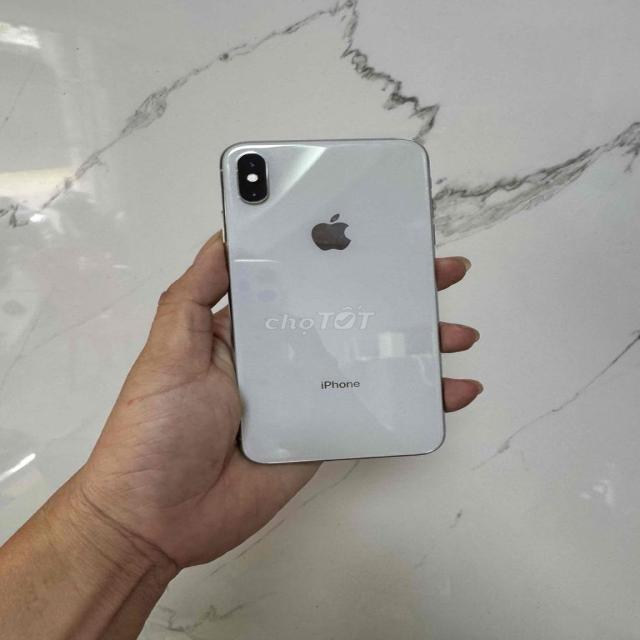gen_x_xs: (210, 130, 448, 467)
